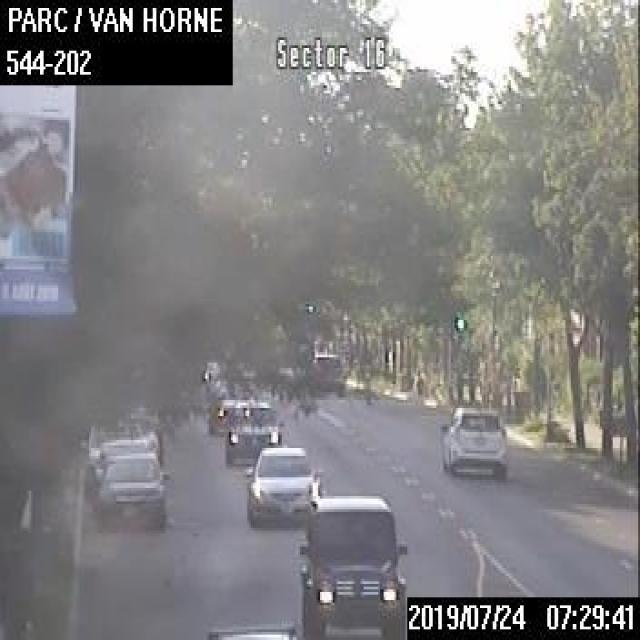vehicle: (297, 492, 407, 638), (245, 444, 322, 525), (93, 451, 169, 528), (439, 403, 507, 477), (86, 406, 163, 464), (224, 398, 284, 463), (208, 378, 260, 432), (206, 619, 297, 637), (310, 351, 343, 397)
